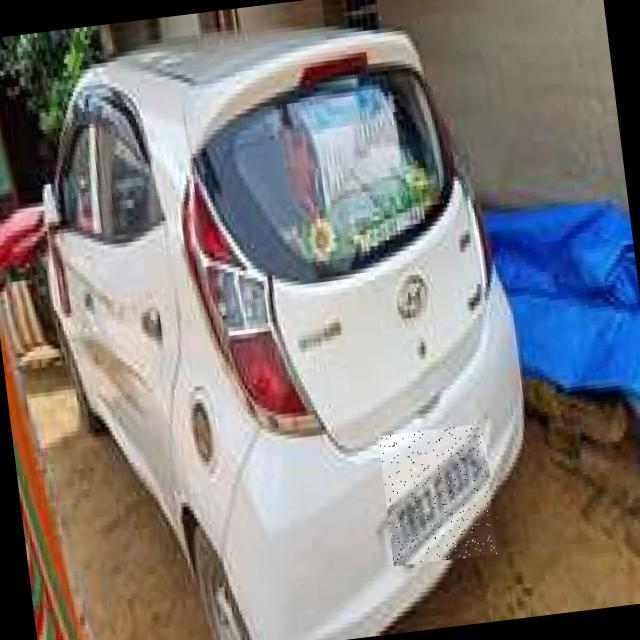Plate: (379, 424, 498, 567)
